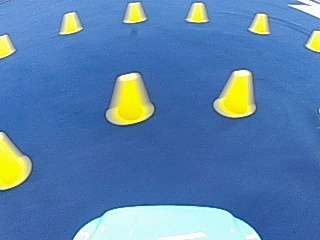cone: (106, 72, 154, 125), (215, 68, 256, 117), (0, 132, 30, 187), (59, 11, 82, 35), (122, 2, 146, 24), (247, 12, 269, 35), (185, 2, 208, 23), (0, 33, 15, 57), (304, 29, 319, 51)
